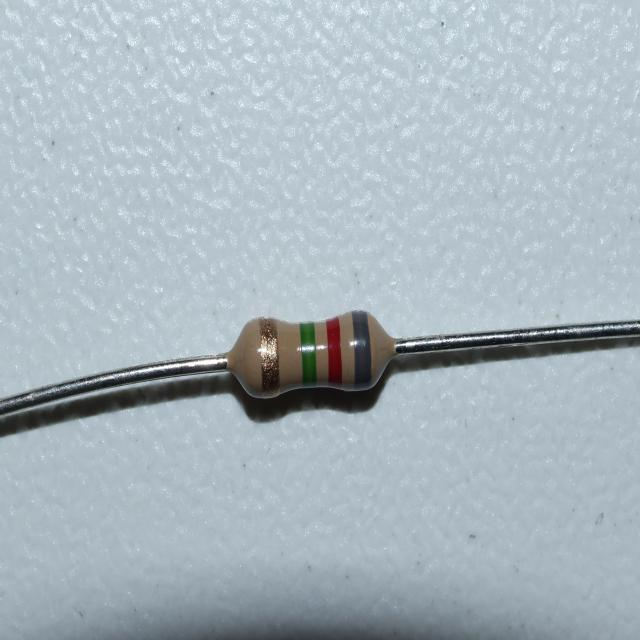resistor: (244, 307, 382, 404)
